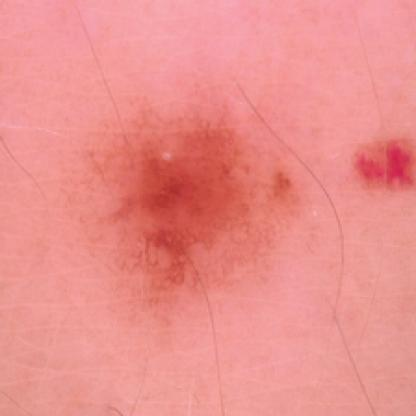benign: (108, 91, 414, 284)
